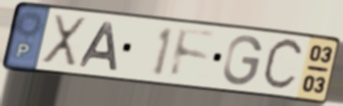1: (152, 26, 176, 79)
A: (77, 21, 120, 73)
C: (259, 36, 307, 94)
F: (168, 25, 219, 81)
G: (221, 33, 265, 88)
X: (39, 12, 89, 71)
